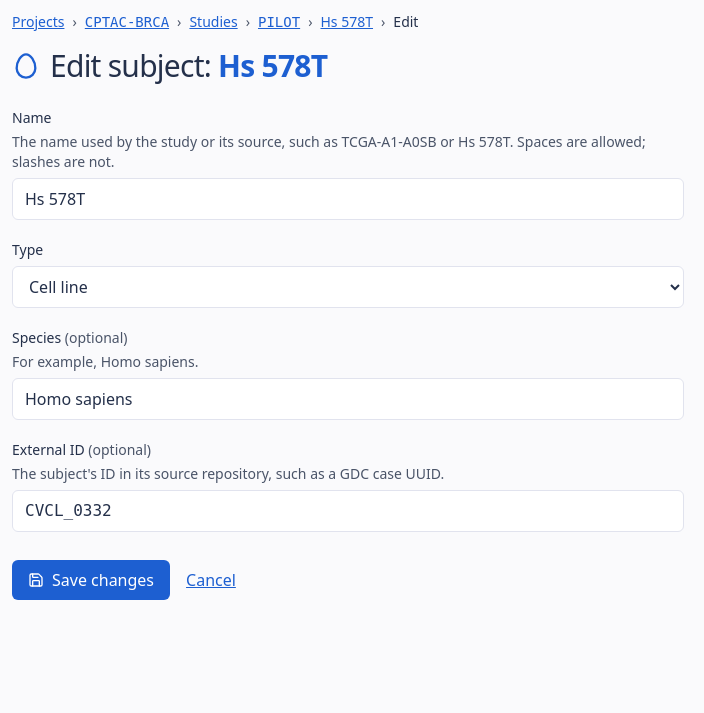
EditSubjectPage › highlights the name when it is already used, and clears it on change
The width and height of the screenshot is (704, 713).
Replace the text in the field labelled "Name" with "MCF7" at (348, 199), box [12,178,684,220]
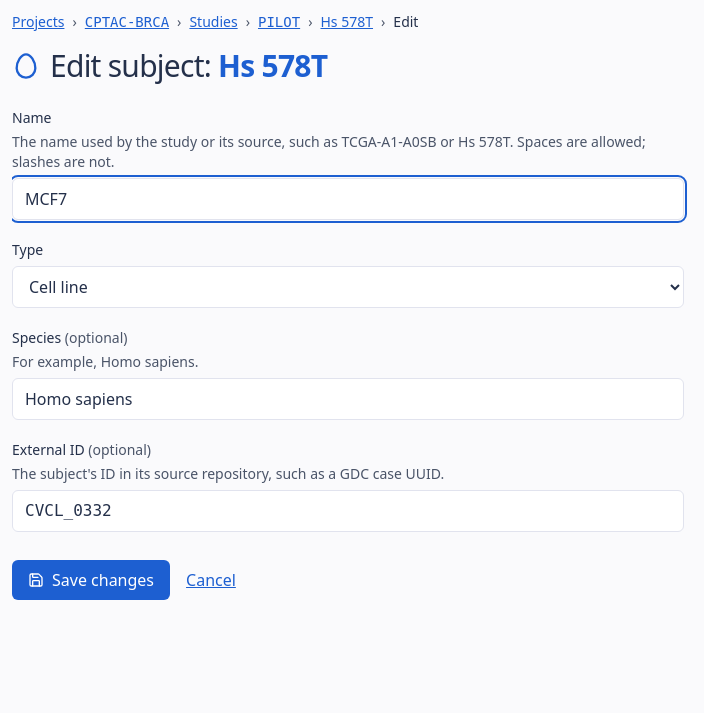
Click the button "Save changes" at (91, 580), box [12,560,170,600]
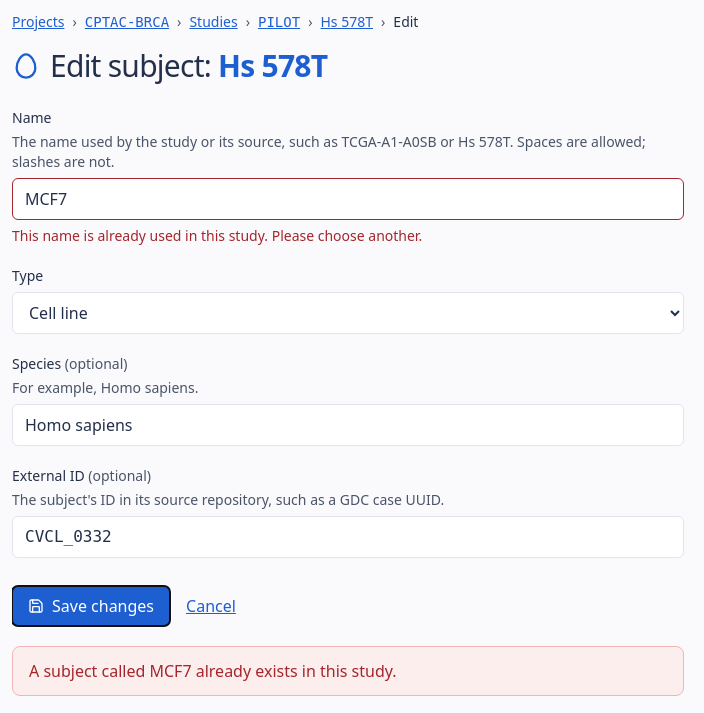
Check: the message reads "A subject called MCF7 already exists in this study.", box [29,660,397,682]
Type "-x" into the field labelled "Name" at (348, 199), box [12,178,684,220]
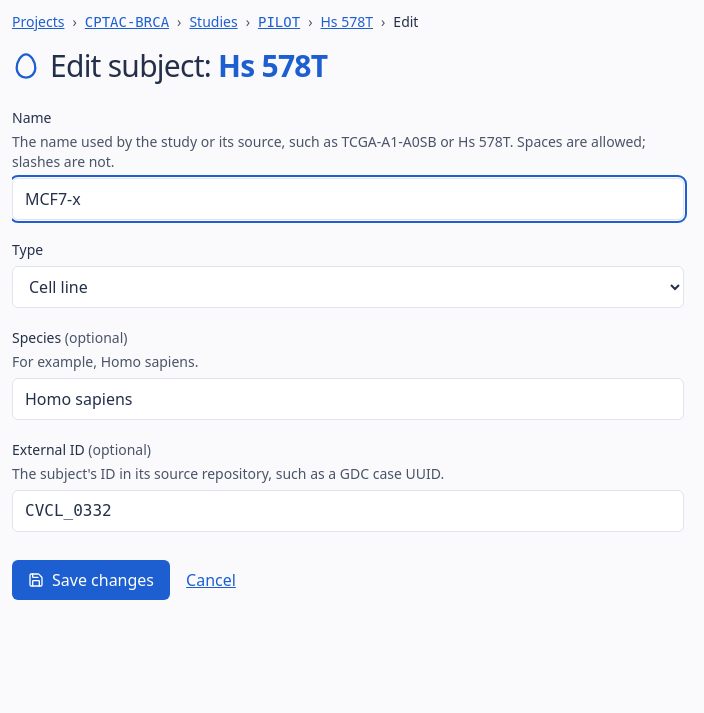
Check: the message "A subject called MCF7 already exists in this study." is gone
